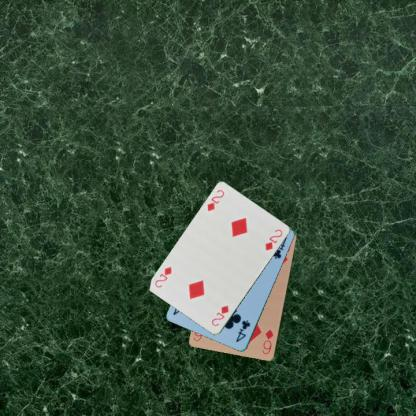2d: (204, 186, 226, 213), (209, 302, 230, 327)
4c: (233, 318, 252, 344)
6d: (260, 327, 275, 356)
